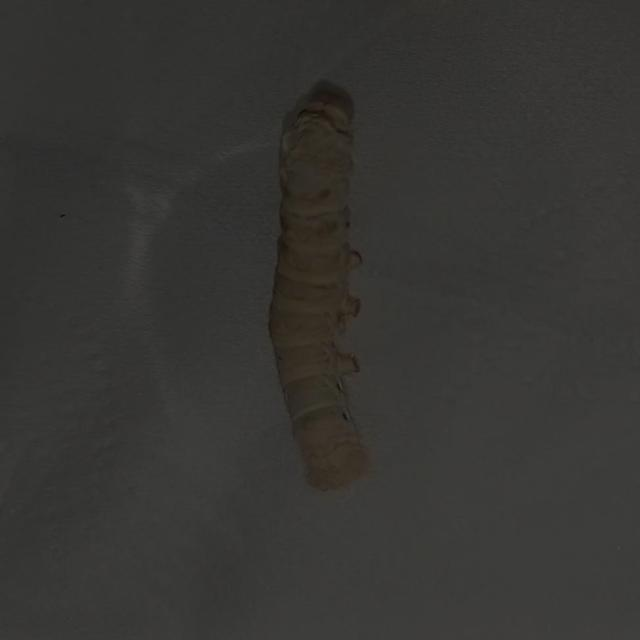Healthy: (252, 78, 394, 500)
